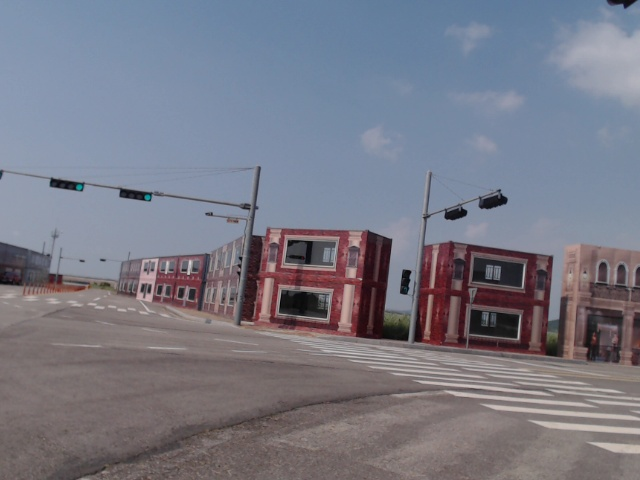straight_green_4: (119, 189, 152, 202), (51, 180, 84, 192)
